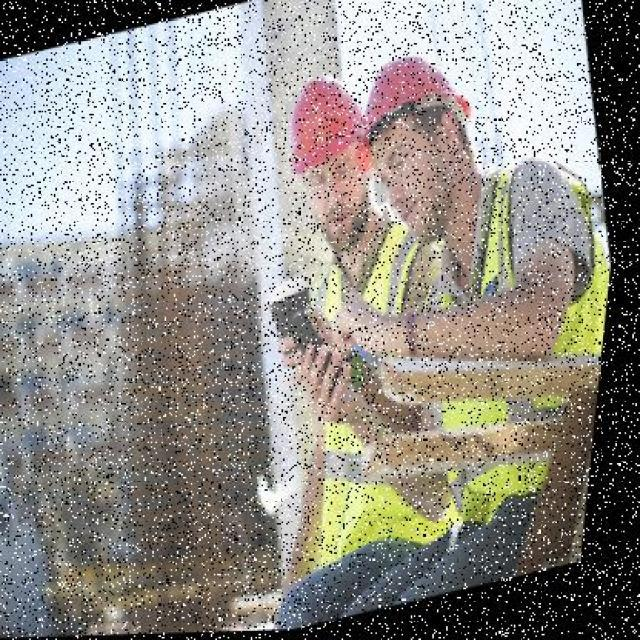helmet: (351, 43, 469, 130), (279, 71, 371, 171)
vest: (403, 137, 626, 537)
